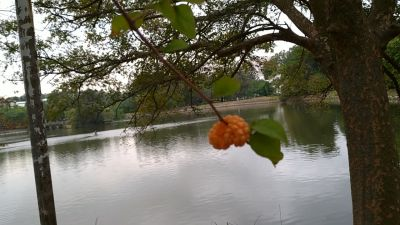eggs: (206, 115, 252, 152)
